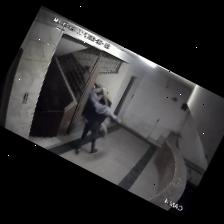person: (75, 88, 119, 154)
